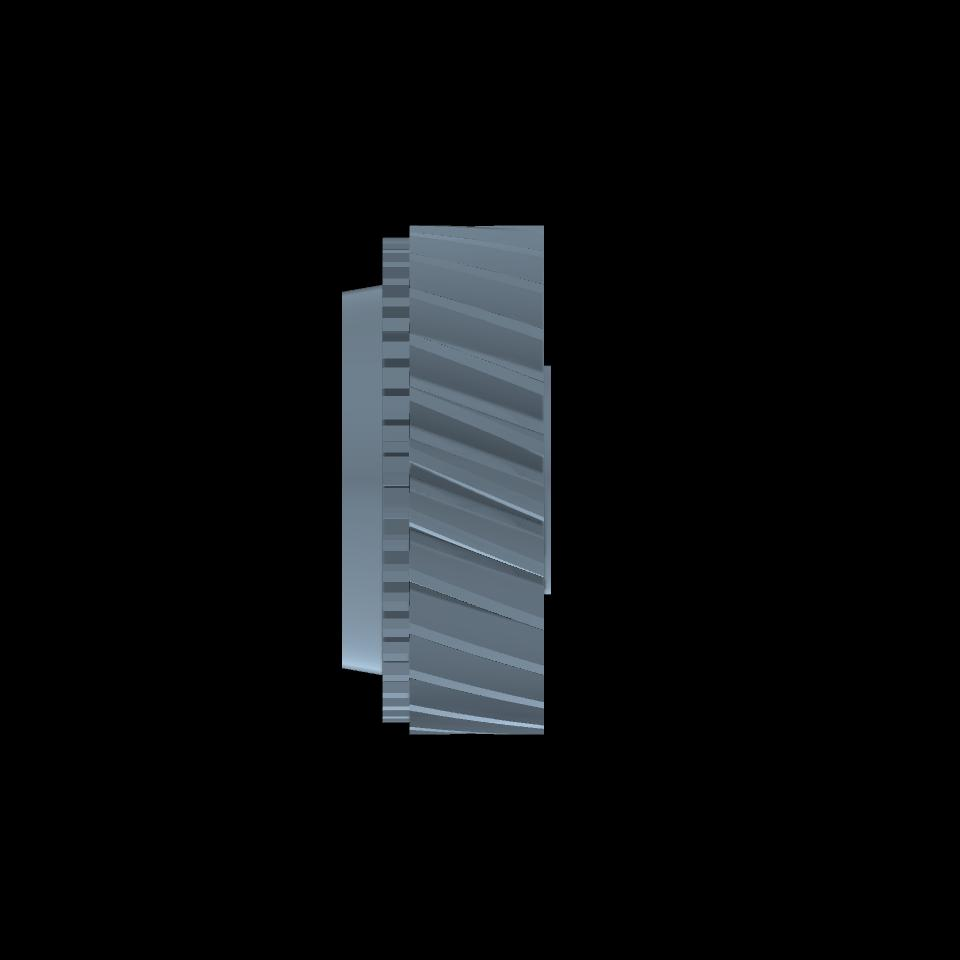Helical: (409, 226, 543, 733)
Straight: (381, 238, 410, 719)
